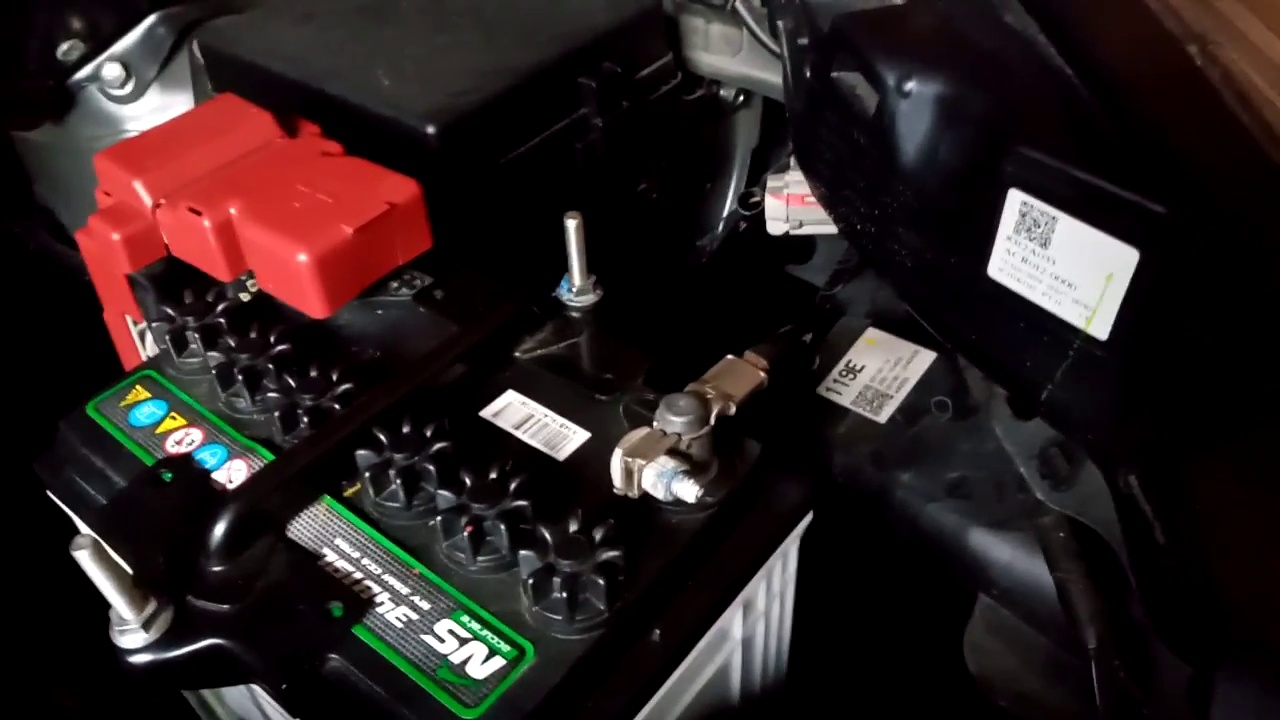battery: (40, 245, 810, 720)
neg_connected: (559, 341, 794, 527)
pos_connected: (21, 82, 439, 354)
